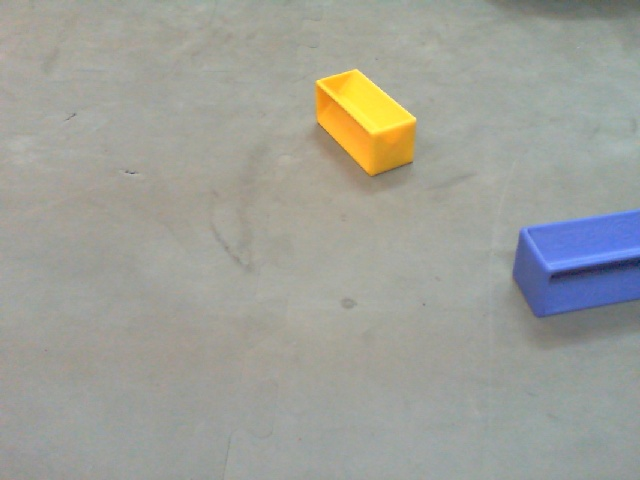BlueSample: (509, 204, 640, 322)
YellowSample: (312, 67, 421, 179)
